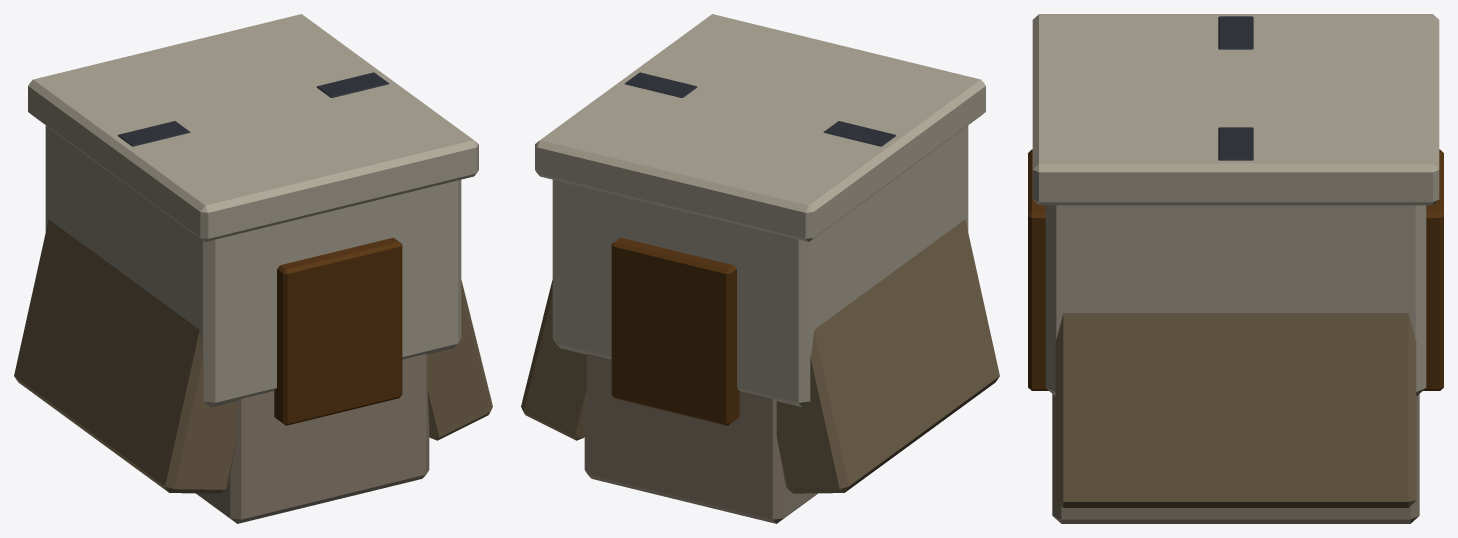
The model's file is mod_arch_keystone.glb.
3 views of the same model, side by side, from view 1: azimuth 30°, elevation 25°; view 2: azimuth 150°, elevation 25°; view 3: azimuth 270°, elevation 25° (orthographic). The views are drawn at different scales.
Visible parts, largest first — view 1: Mod_Arch_Keystone; view 2: Mod_Arch_Keystone; view 3: Mod_Arch_Keystone.
Boxes of the visible parts, x1=… form: Mod_Arch_Keystone: x1=14, y1=14, x2=492, y2=523; Mod_Arch_Keystone: x1=521, y1=14, x2=999, y2=523; Mod_Arch_Keystone: x1=1028, y1=14, x2=1443, y2=523.
Size of the model in its own units: 0.6594 by 0.647 by 0.634.
